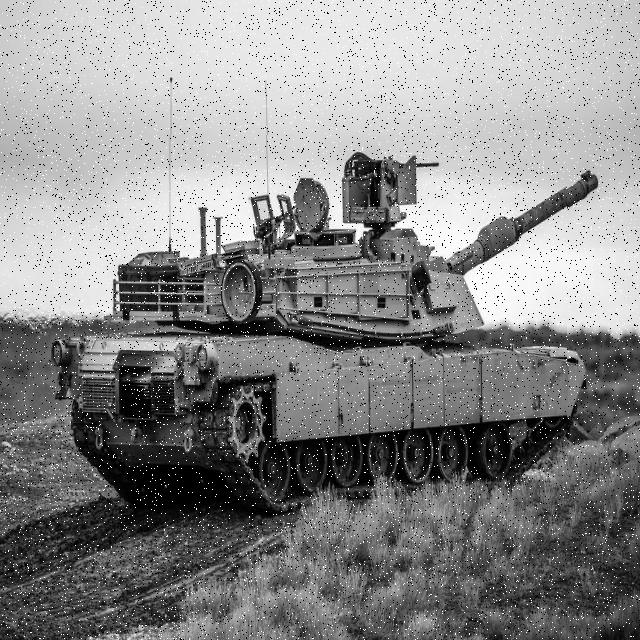MIL_MBT: (52, 136, 567, 494)
